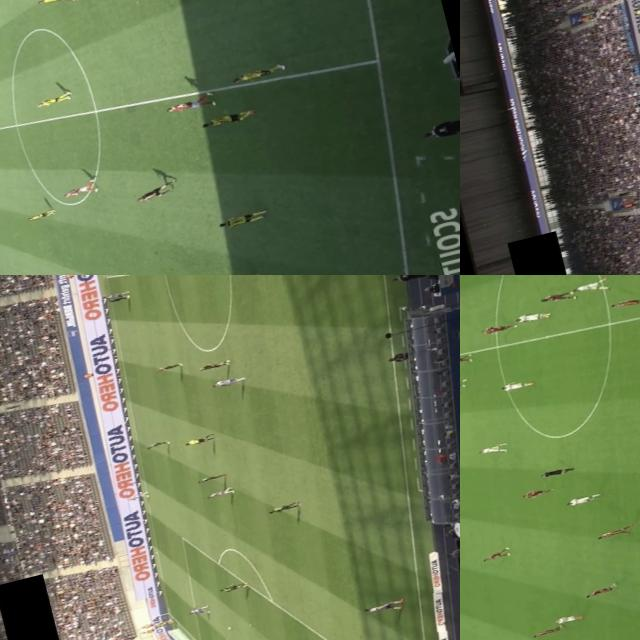ball: (224, 624, 234, 630)
player: (164, 90, 222, 116), (229, 59, 286, 84), (198, 106, 252, 130), (217, 207, 265, 230), (534, 284, 576, 307), (563, 275, 609, 296), (58, 176, 101, 198), (476, 317, 518, 338), (527, 620, 567, 640), (360, 597, 402, 615), (32, 90, 73, 108), (262, 498, 300, 516), (511, 308, 549, 326), (607, 291, 640, 311), (594, 522, 629, 540), (500, 375, 532, 394), (583, 582, 620, 598), (548, 610, 584, 626), (473, 548, 508, 564), (518, 482, 550, 499), (566, 491, 599, 506), (203, 486, 237, 500), (184, 602, 213, 618), (22, 208, 54, 222), (198, 358, 230, 372), (213, 374, 243, 388), (151, 359, 182, 372), (98, 288, 130, 300), (216, 580, 245, 593), (33, 0, 74, 8), (126, 488, 151, 501), (144, 439, 167, 452), (196, 472, 225, 482), (460, 351, 474, 369), (477, 443, 502, 453), (107, 294, 128, 303), (460, 375, 469, 391)
